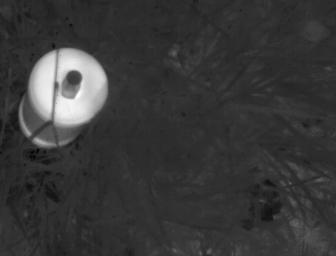landmine: (18, 48, 109, 148)
